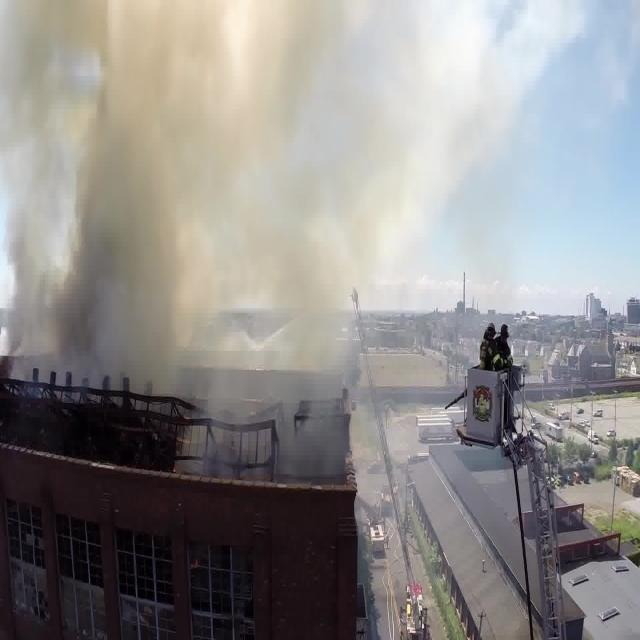Smoke: (13, 0, 439, 515)
